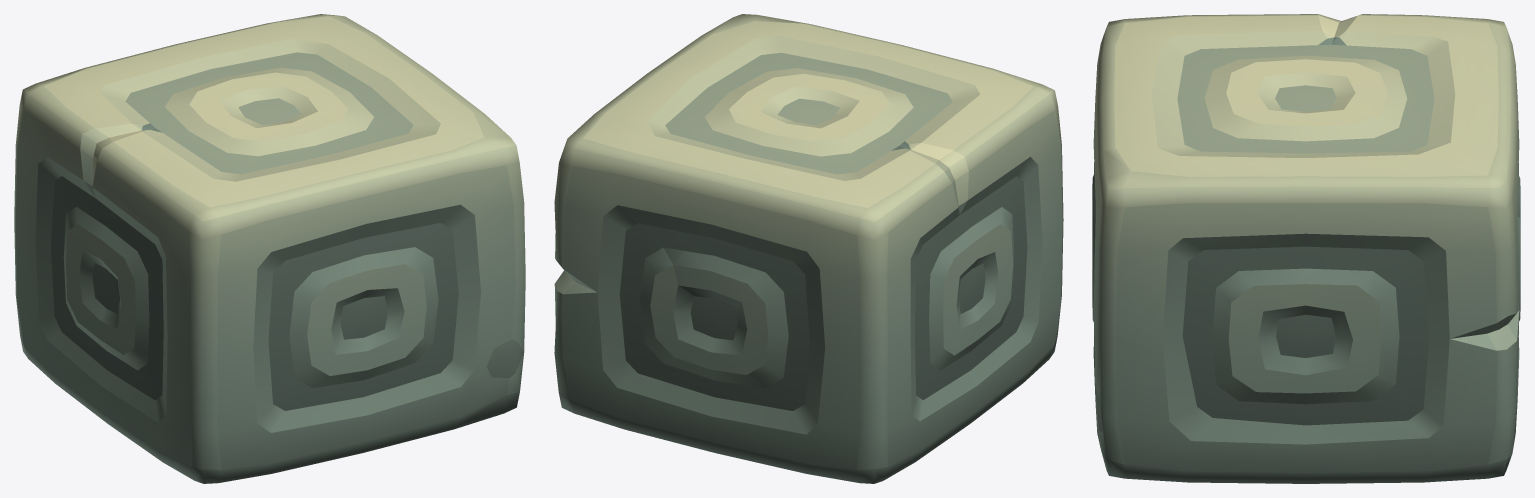
Rendered from stone_cubes2.fbx.
3 renders of one model, left to right at view 1: azimuth 30°, elevation 25°; view 2: azimuth 150°, elevation 25°; view 3: azimuth 270°, elevation 25°, orthographic. The views are drawn at different scales.
Visible parts, largest first — view 1: stone_cubes2; view 2: stone_cubes2; view 3: stone_cubes2.
Part boxes in pixels (x1,y1,x2,y2): stone_cubes2: (14,14,525,483); stone_cubes2: (554,14,1063,483); stone_cubes2: (1092,14,1520,483).
Size of the model in its own units: 217 by 174 by 217.
1 material, 1 textured.
